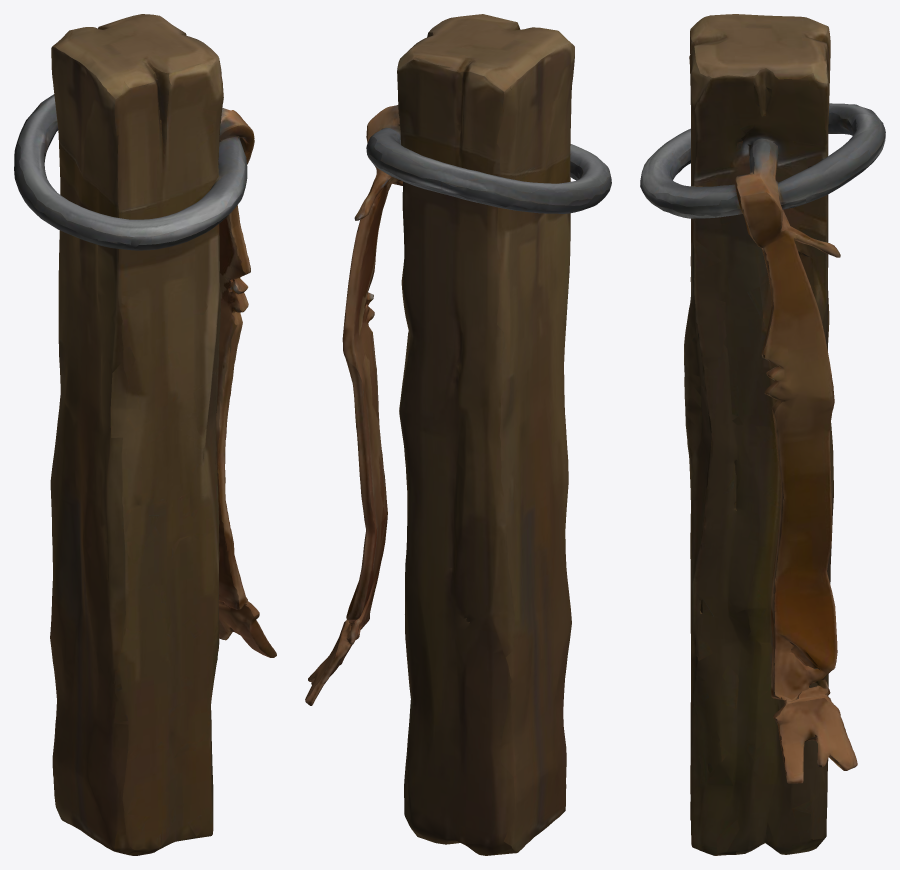
The model's file is tether_stake.glb.
3 views of the same model, side by side, from view 1: azimuth 30°, elevation 25°; view 2: azimuth 150°, elevation 25°; view 3: azimuth 270°, elevation 25° (orthographic).
Parts seen in each view (by area): view 1: geometry_0; view 2: geometry_0; view 3: geometry_0.
Part boxes in pixels (left/top/right/bottom): geometry_0: left=14, top=14, right=276, bottom=855; geometry_0: left=305, top=14, right=611, bottom=855; geometry_0: left=640, top=14, right=885, bottom=855.
Size of the model in its own units: 0.1577 by 0.45 by 0.1261.
Materials: 1 (1 with a texture image).
